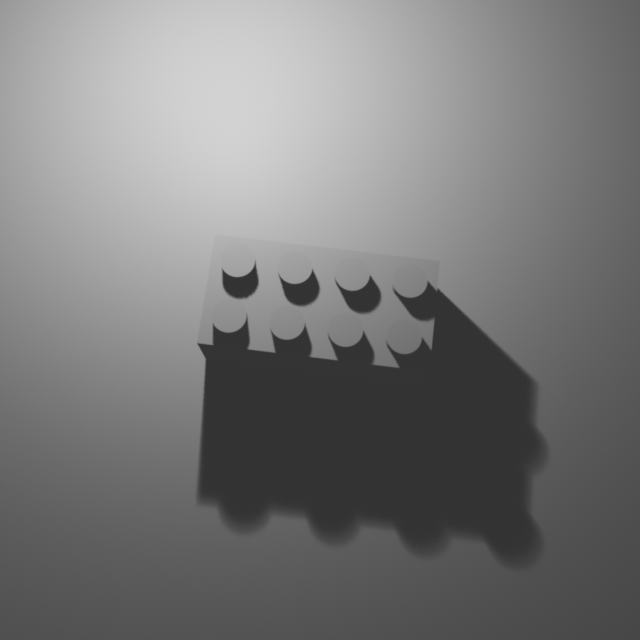lego_2x4: (195, 230, 441, 385)
